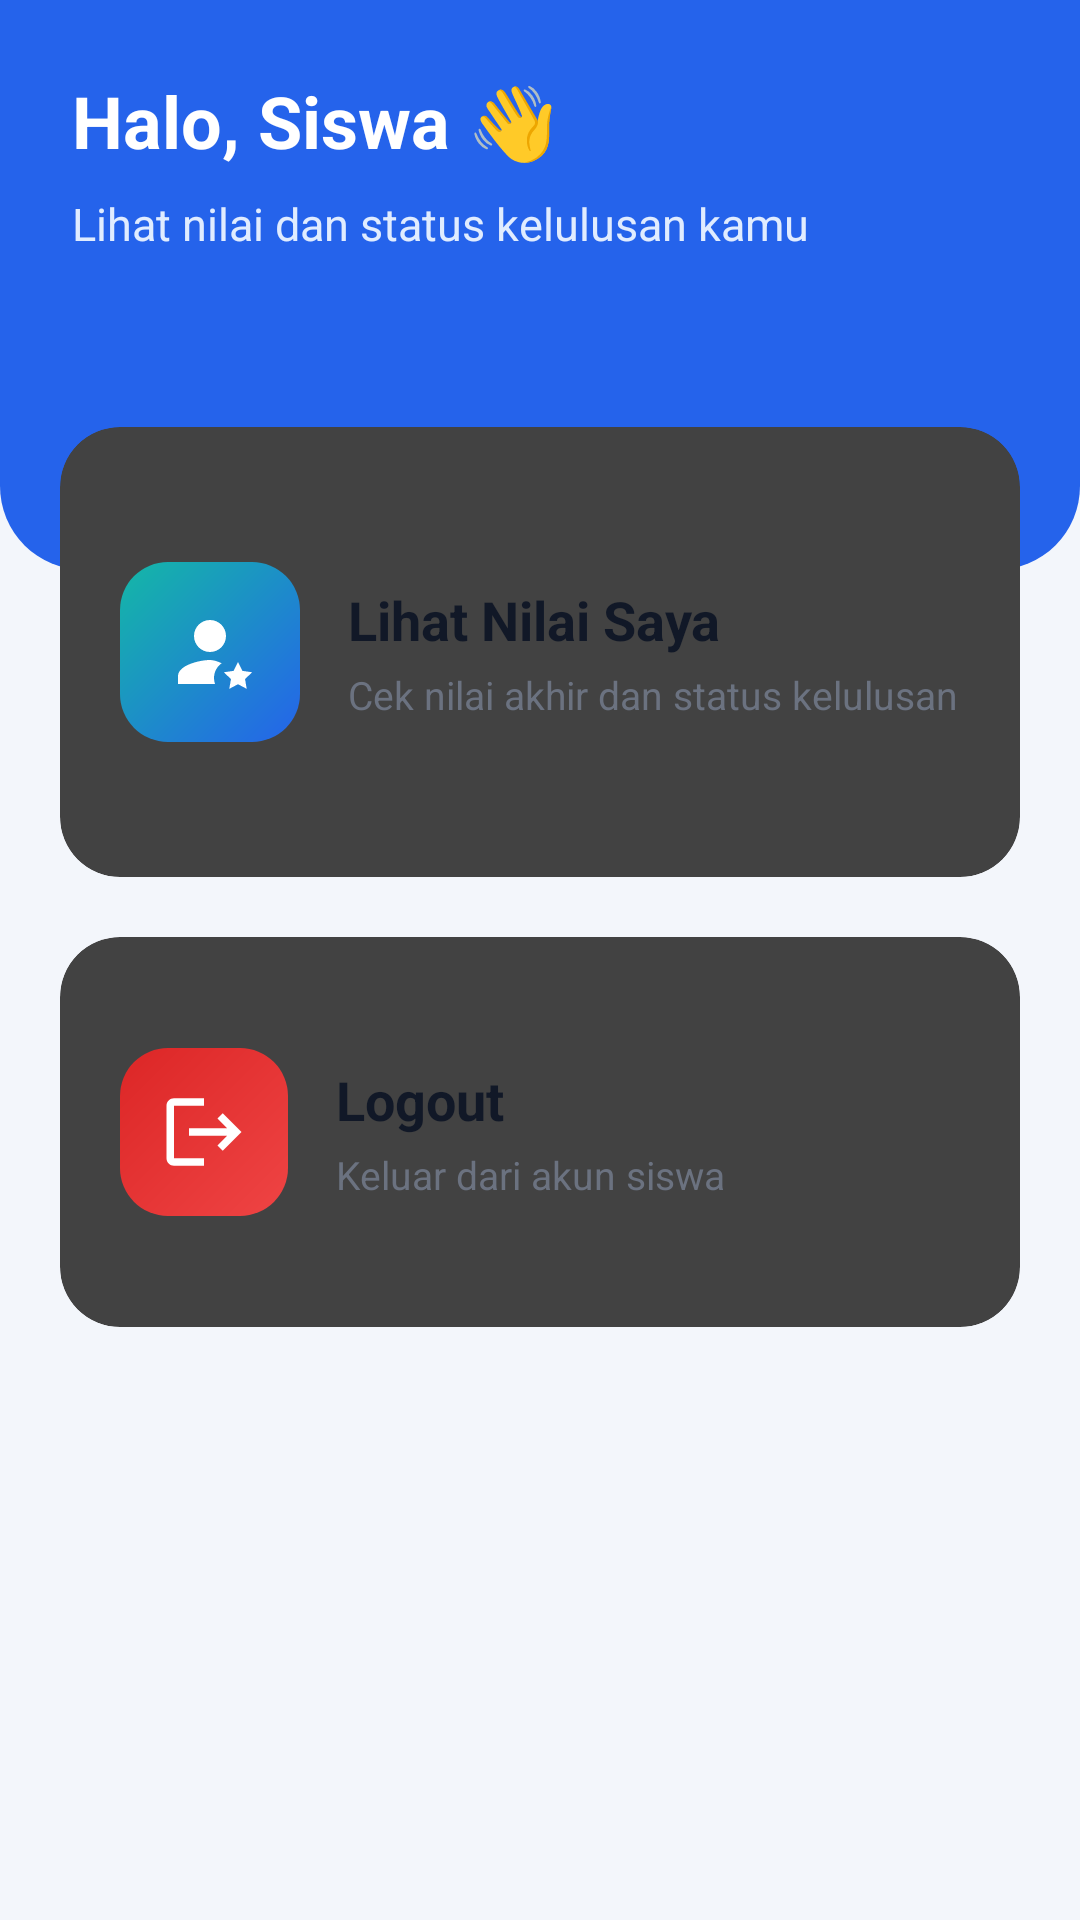

Screen size 1080 x 1920. Icon name, then its center in pixels as (x=x, y=y):
nilai pribadi: (x=215, y=654)
